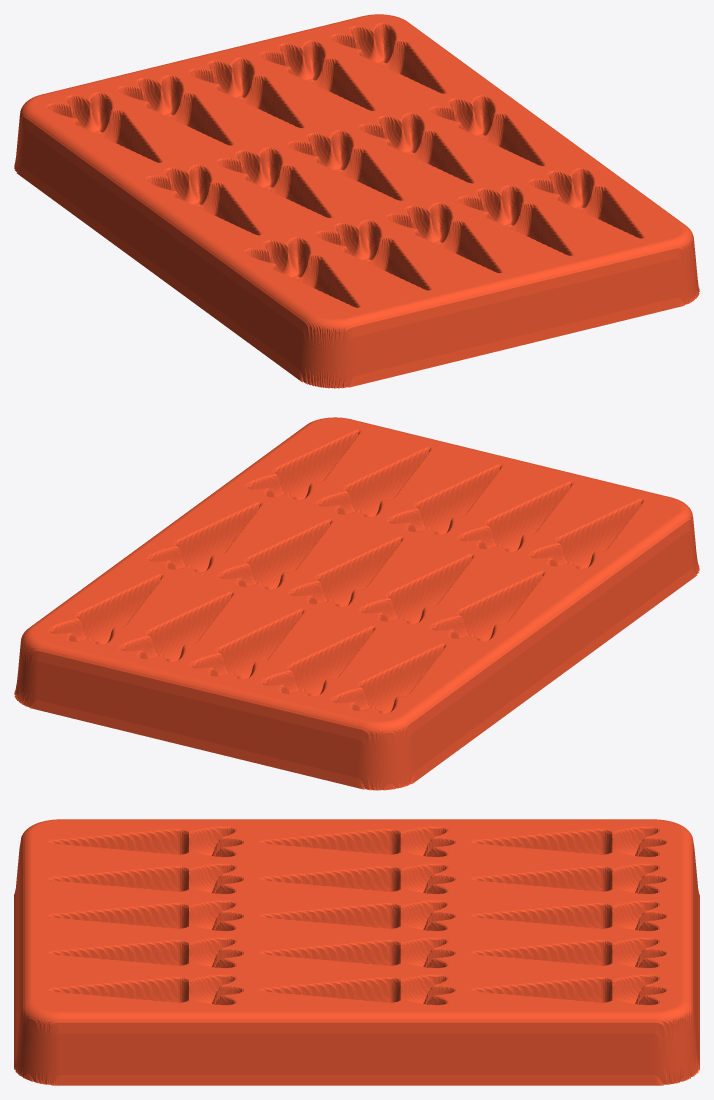
The model's file is mold.glb.
3 renders of one model, top to bottom at view 1: azimuth 30°, elevation 25°; view 2: azimuth 150°, elevation 25°; view 3: azimuth 270°, elevation 25°, orthographic. The views are drawn at different scales.
Parts seen in each view (by area): view 1: geometry_0; view 2: geometry_0; view 3: geometry_0.
Part boxes in pixels (<box>): geometry_0: <box>14,14,699,388</box>; geometry_0: <box>14,417,699,790</box>; geometry_0: <box>14,819,699,1085</box>.
Size of the model in its own units: 0.097 by 0.0145 by 0.1361.
